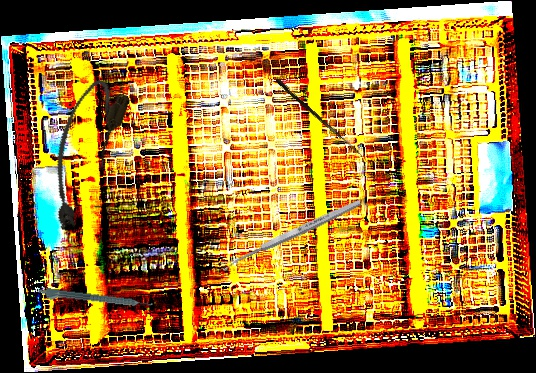Cannula: (31, 74, 134, 237)
Handpiece: (36, 286, 154, 314)
Hook Surgical: (274, 78, 365, 156)
Surgical Spoon: (219, 197, 363, 272)
